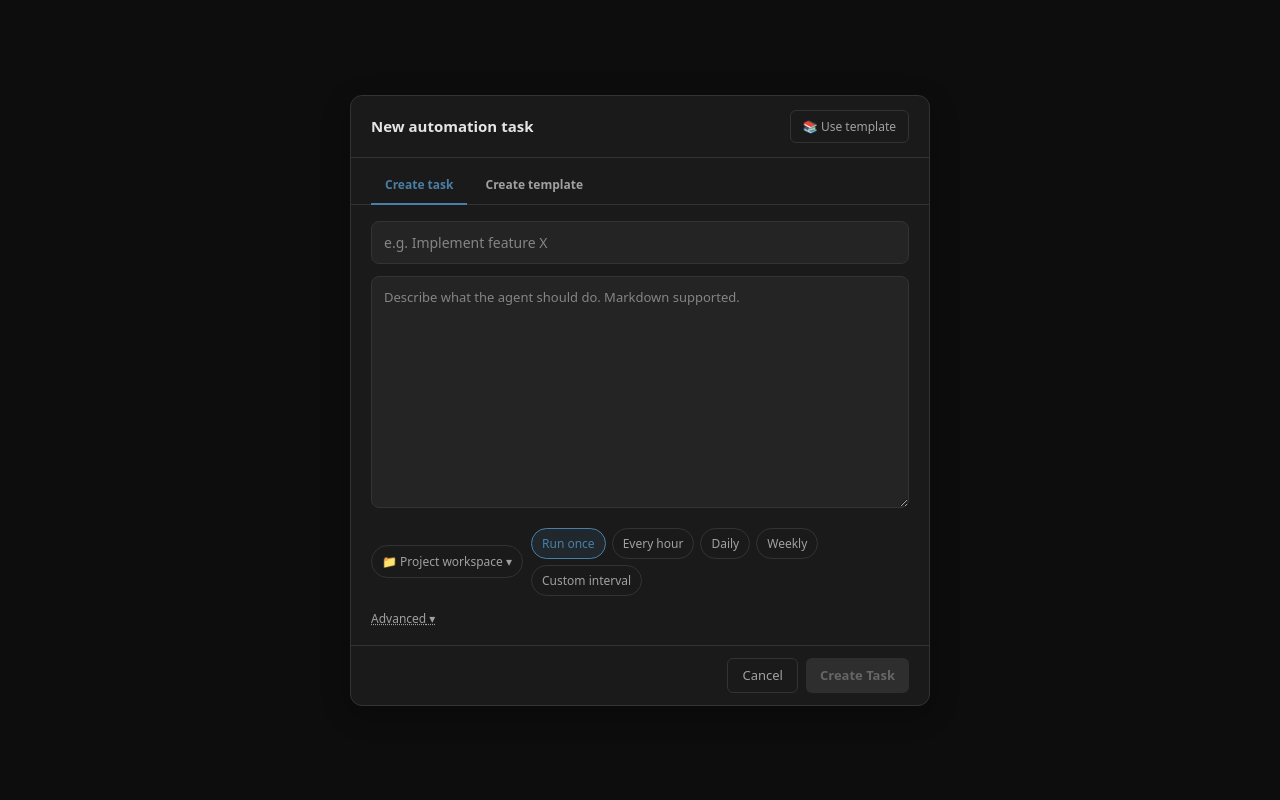
Test case: SchedulePicker › updates the custom minute input when templates are applied in NewTaskDialog
The width and height of the screenshot is (1280, 800).
Click the button "📚 Use template" at (849, 126), box [790, 110, 909, 142]
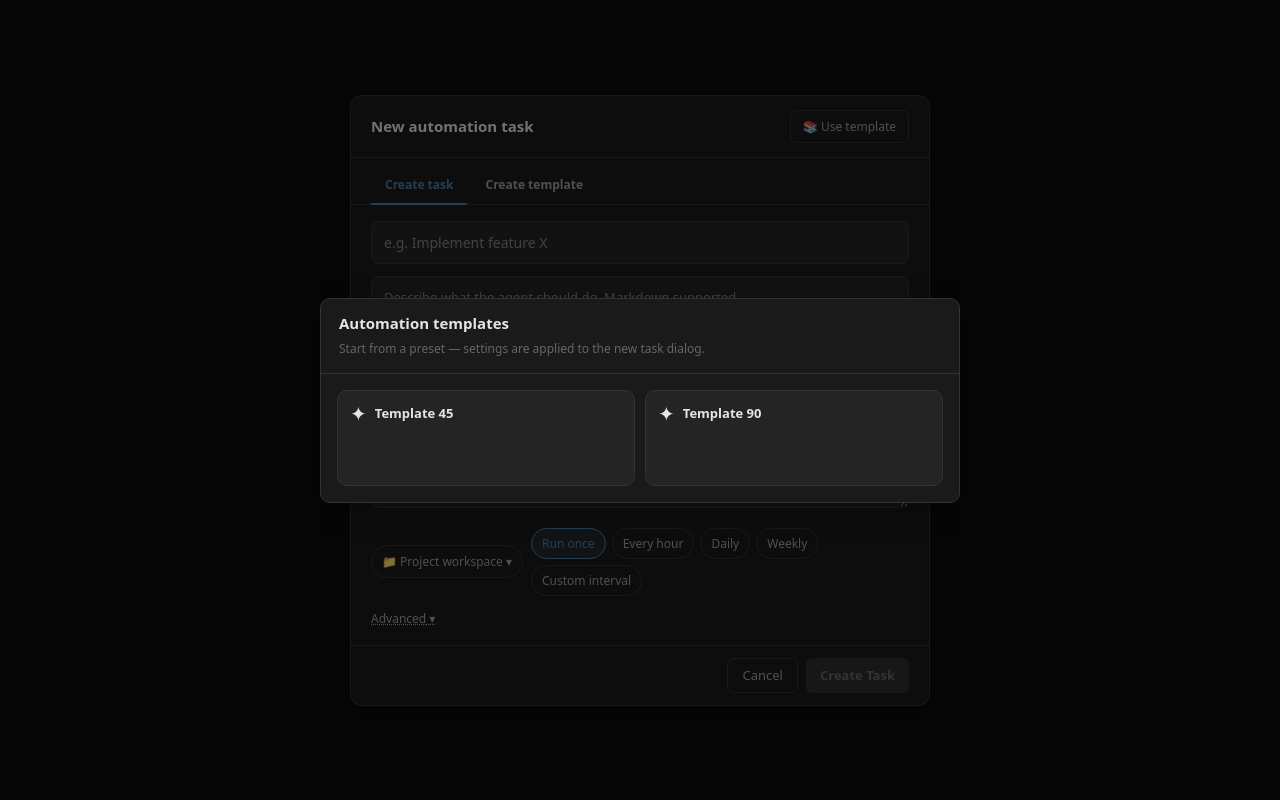
Click the button "✦ Template 45" at (414, 412), box [337, 390, 635, 486]
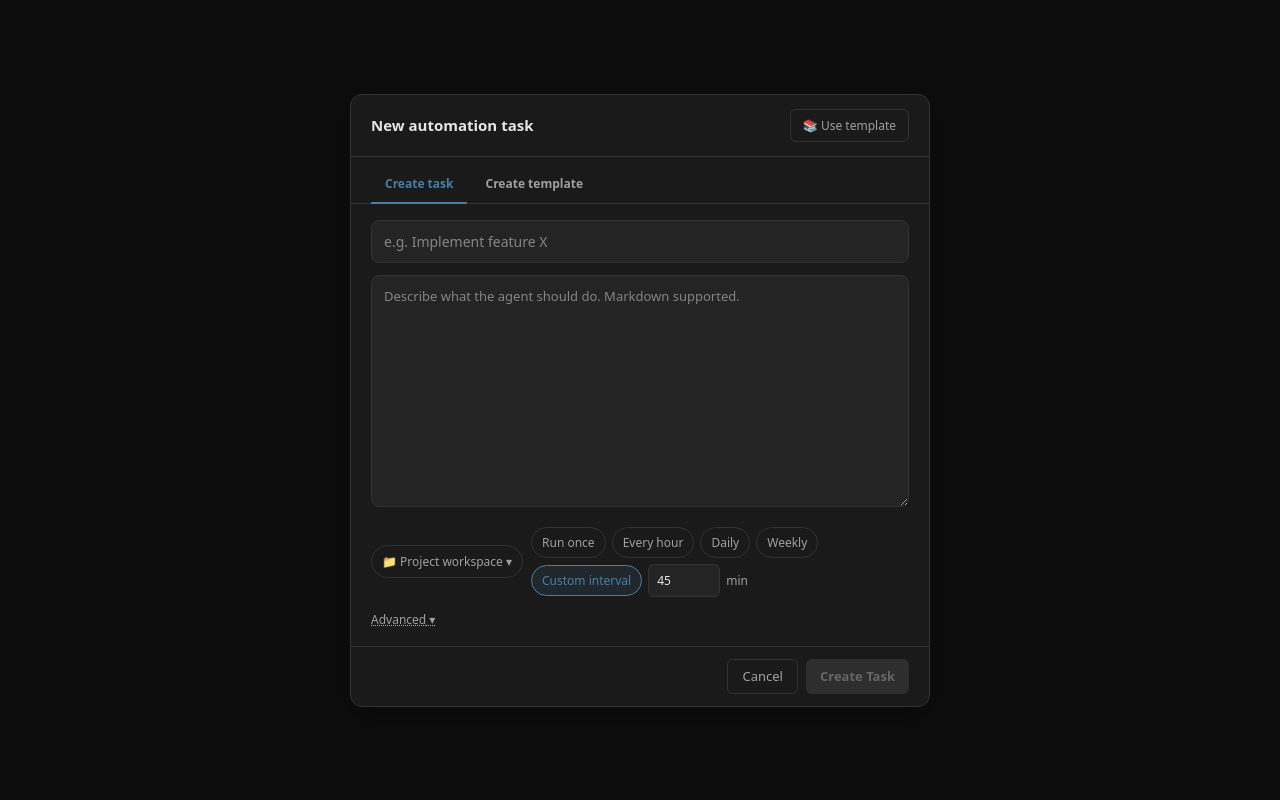
Now the number field holds "45", box [648, 564, 720, 596]
Click the button "📚 Use template" at (849, 125), box [790, 108, 909, 142]
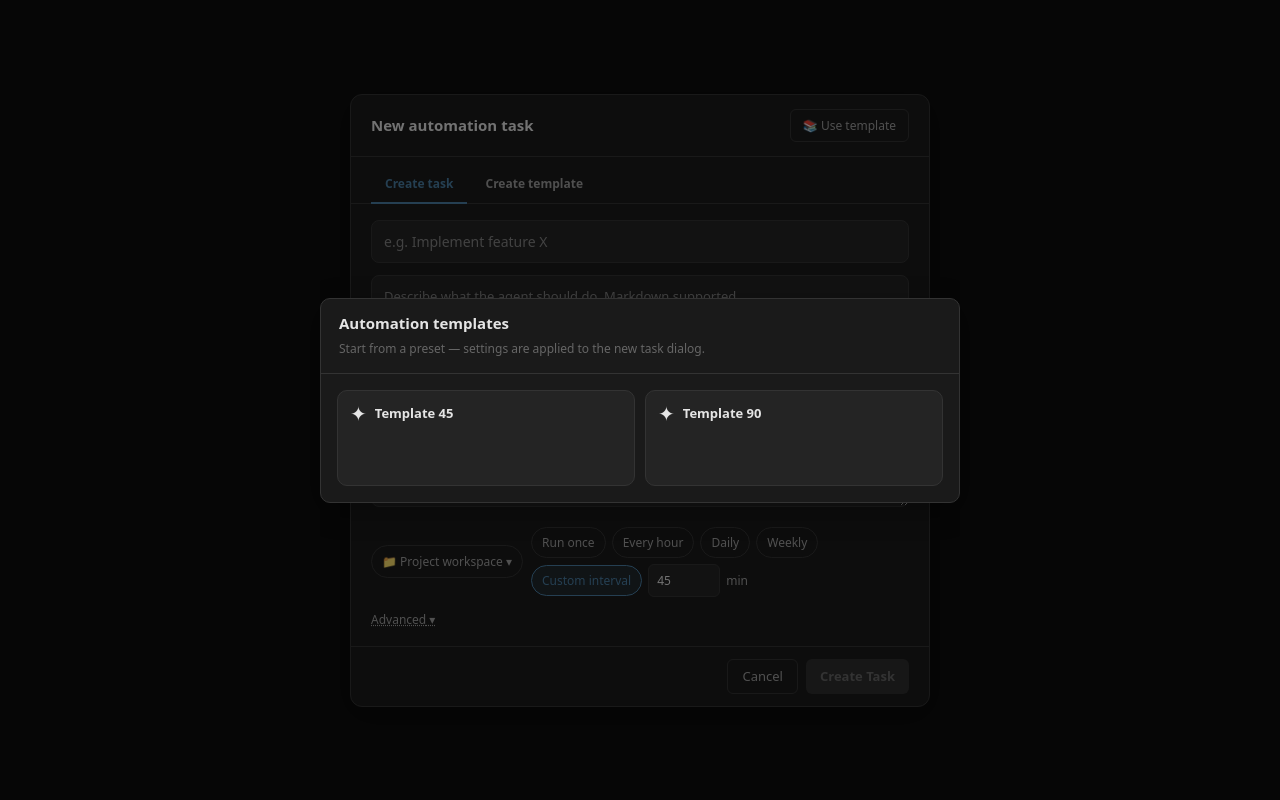
Click the button "✦ Template 90" at (722, 412), box [645, 390, 943, 486]
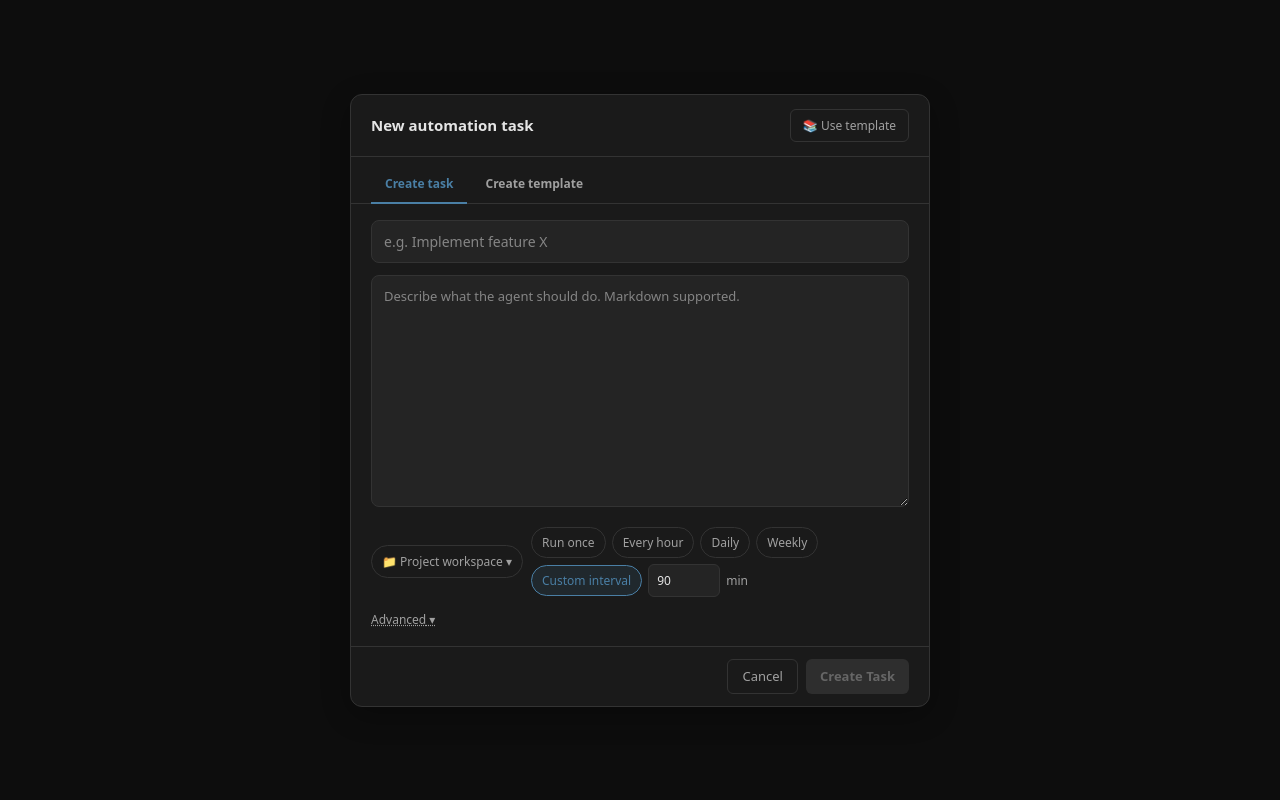
Now the number field holds "90", box [648, 564, 720, 596]
